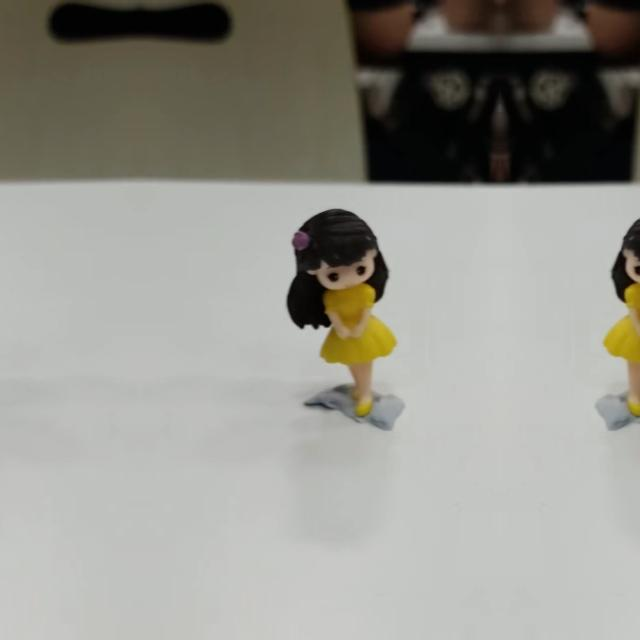woman head: (292, 206, 381, 294), (619, 206, 640, 293)
